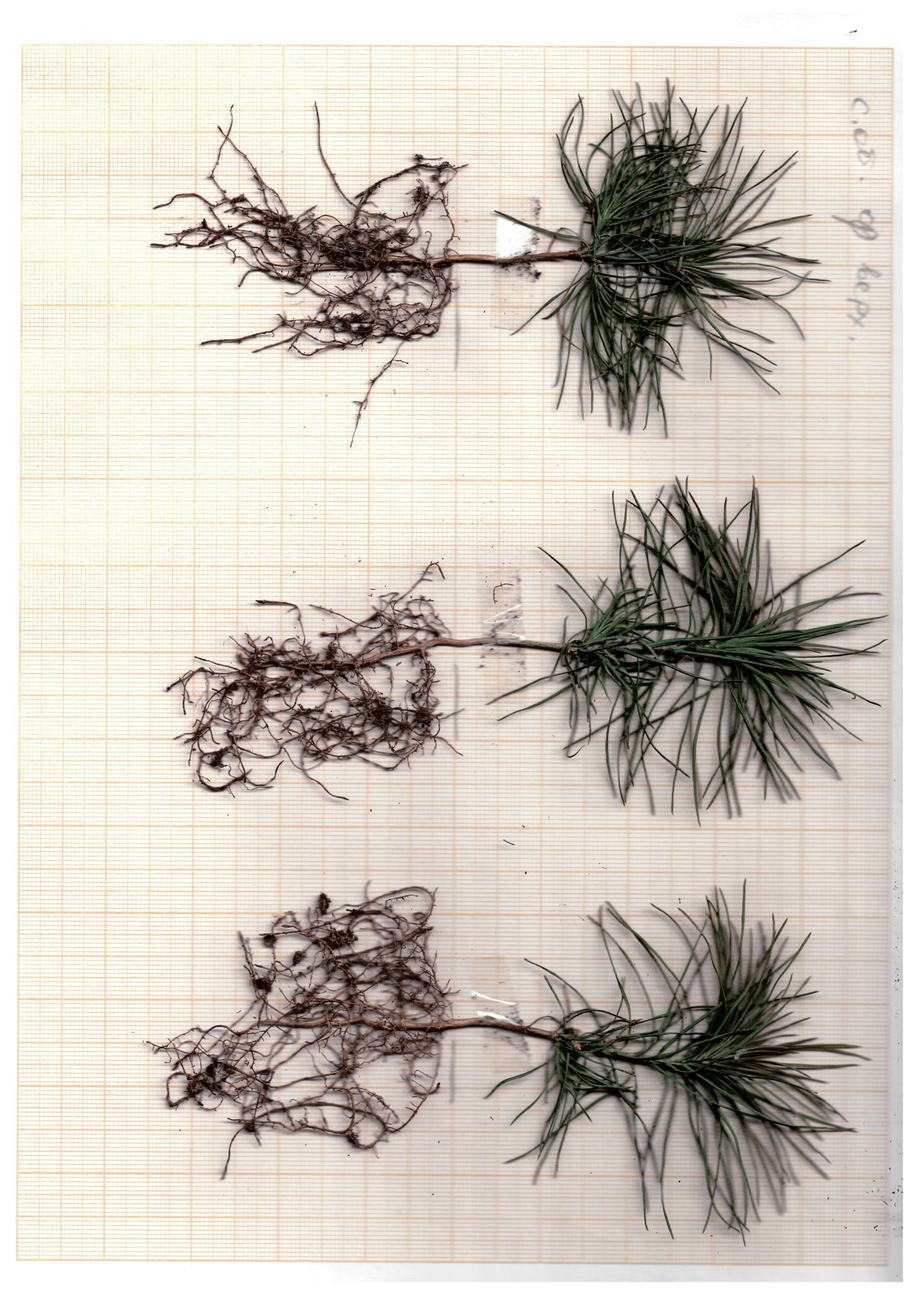Seeding: (126, 870, 881, 1250), (153, 471, 897, 837), (140, 72, 831, 445)
